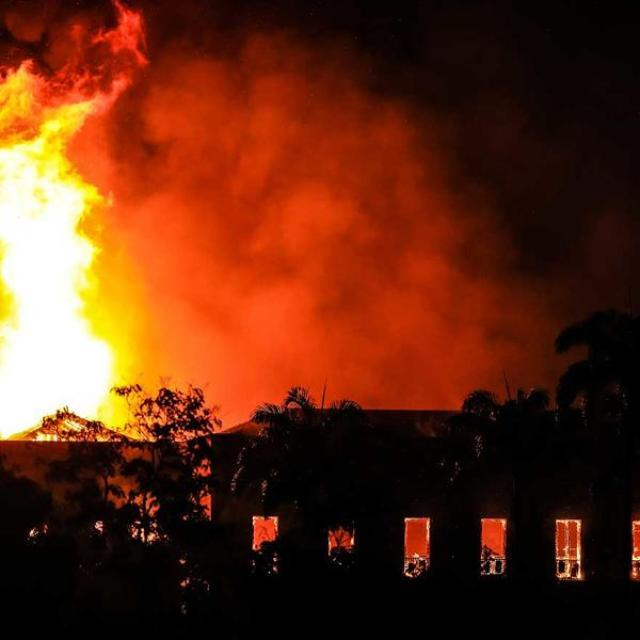Fire: (0, 56, 116, 272), (0, 273, 129, 440)
Smoke: (296, 248, 555, 412), (122, 31, 290, 264), (293, 54, 483, 248), (136, 268, 296, 424)
